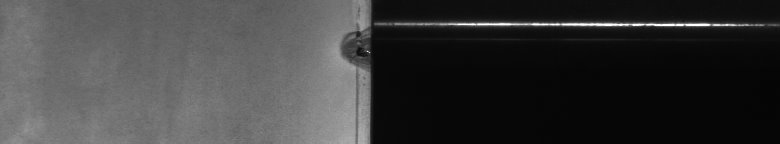hb: (332, 8, 360, 136)
